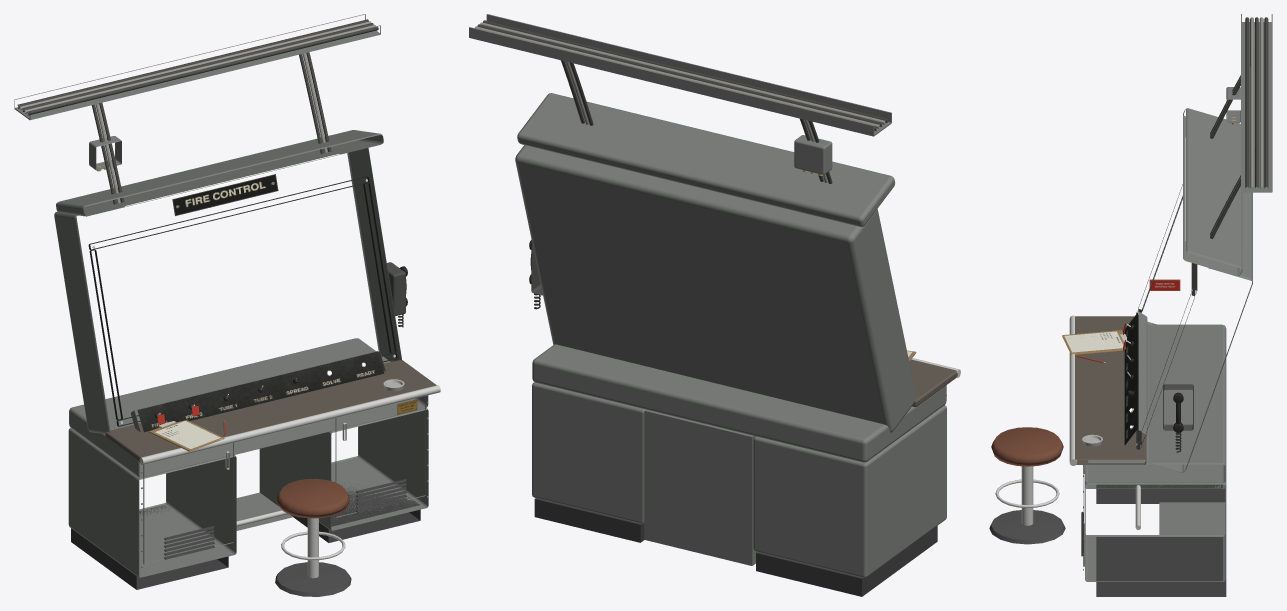
File: fire_control.glb
The picture shows the model from 3 angles, left to right: view 1: azimuth 30°, elevation 25°; view 2: azimuth 150°, elevation 25°; view 3: azimuth 270°, elevation 25°; orthographic projection. The views are drawn at different scales.
Parts seen in each view (by area): view 1: body; view 2: body; view 3: body.
Part boxes in pixels (box(x1,y1,x2,y2)): body: box(14, 14, 440, 596); body: box(469, 14, 960, 596); body: box(989, 14, 1272, 596).
Bounding box in the file's own units: 2.1 × 2.48 × 1.48.
Materials: 12 (5 with a texture image).
